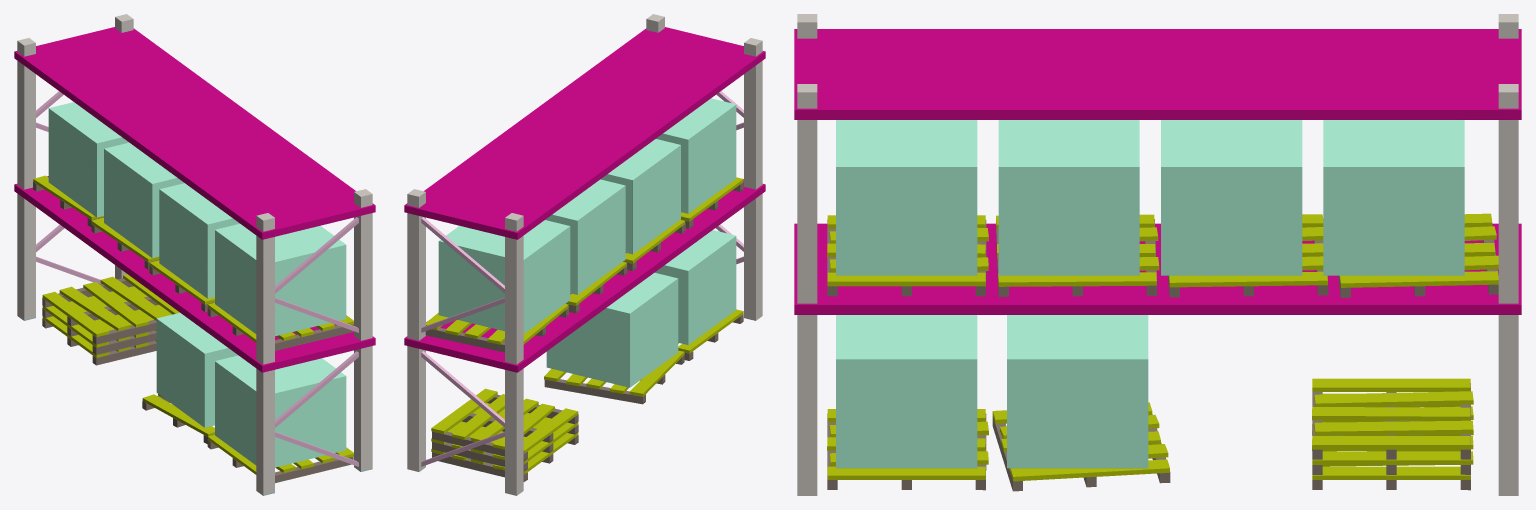
Rendered from ShelfSmall.fbx.
3 renders of one model, left to right at view 1: azimuth 30°, elevation 25°; view 2: azimuth 150°, elevation 25°; view 3: azimuth 270°, elevation 25°, orthographic. The views are drawn at different scales.
Visible parts, largest first — view 1: ShelfSmall; view 2: ShelfSmall; view 3: ShelfSmall.
Boxes of the visible parts, left/top/right/bottom form: ShelfSmall: left=14, top=14, right=375, bottom=495; ShelfSmall: left=404, top=14, right=765, bottom=495; ShelfSmall: left=794, top=14, right=1521, bottom=495.
Bounding box in the file's own units: 21.41 × 49.69 × 81.13.
